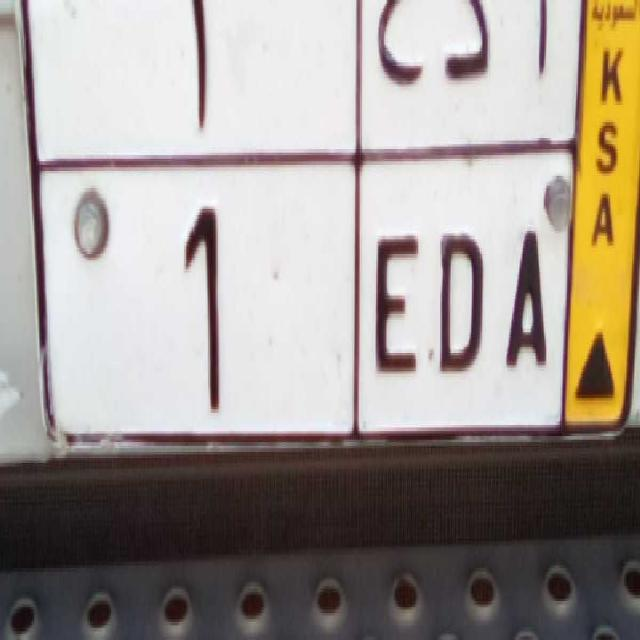license_plate: (30, 157, 572, 452)
